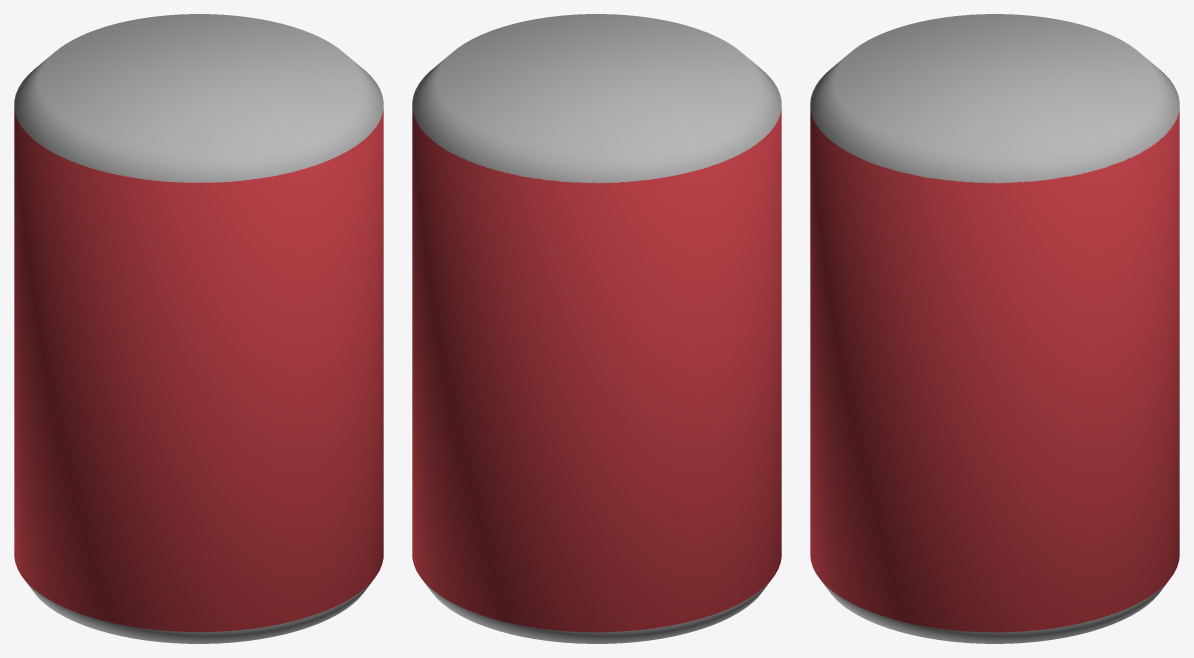
The model's file is RedSoda.fbx.
The picture shows the model from 3 angles, left to right: view 1: azimuth 30°, elevation 25°; view 2: azimuth 150°, elevation 25°; view 3: azimuth 270°, elevation 25°; orthographic projection.
Parts seen in each view (by area): view 1: Cylinder; view 2: Cylinder; view 3: Cylinder.
Boxes of the visible parts, box(x1,y1,x2,y2) form: Cylinder: box(14, 14, 383, 643); Cylinder: box(412, 14, 781, 643); Cylinder: box(810, 14, 1179, 643).
Bounding box in the file's own units: 200 × 295 × 200.
